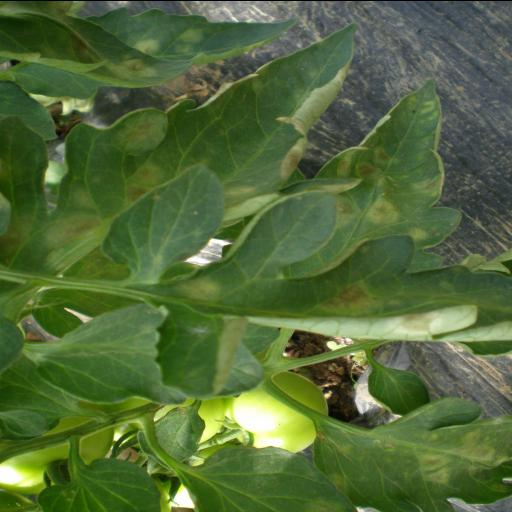Leaf Mold: (20, 29, 356, 292), (163, 190, 512, 349), (312, 84, 464, 272), (0, 2, 296, 94), (304, 396, 512, 512)
